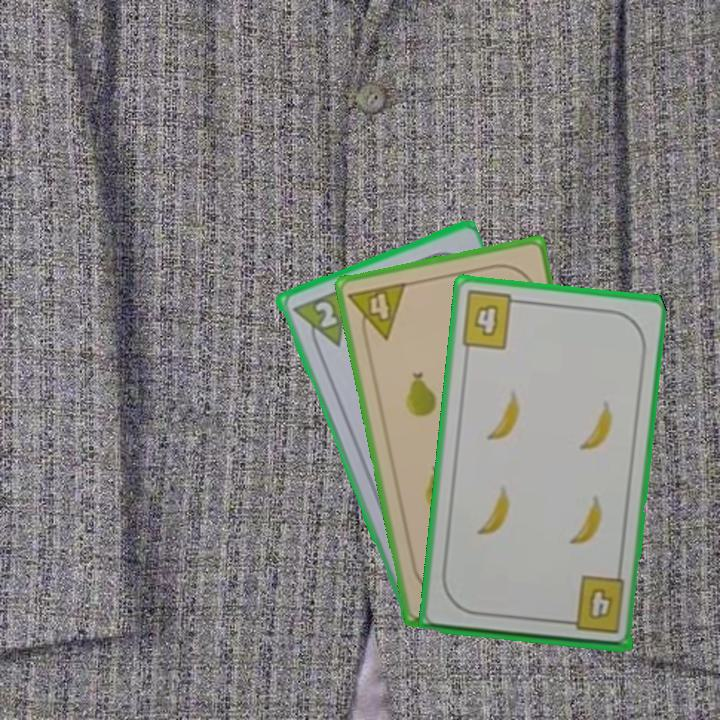2p: (288, 283, 351, 357)
4b: (457, 287, 526, 352), (559, 573, 627, 637)
4p: (345, 278, 409, 346)
